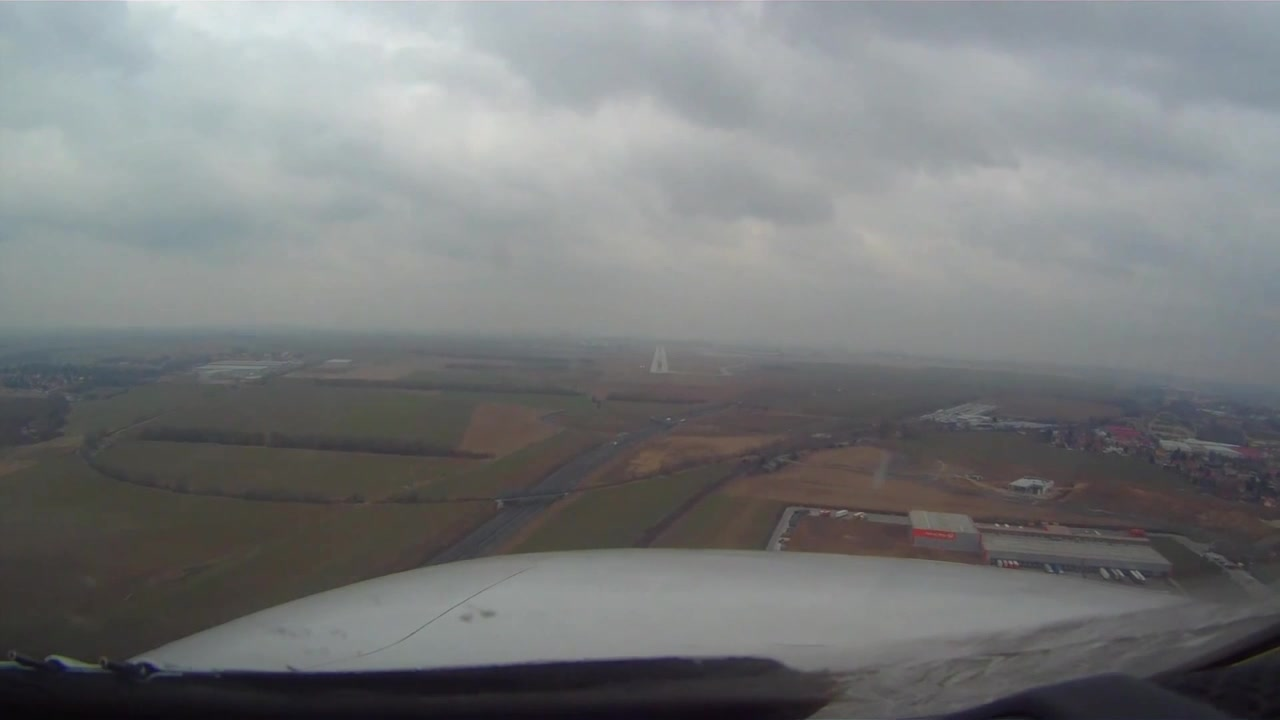runway: (649, 341, 670, 375)
